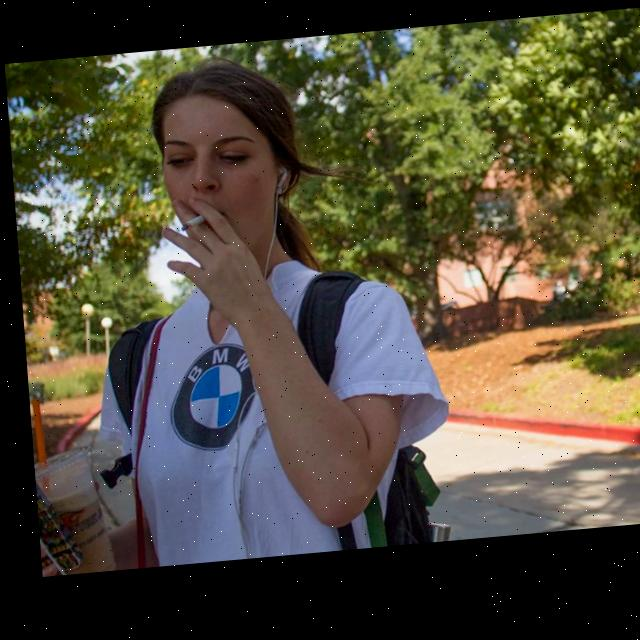cigarette: (176, 216, 201, 233)
